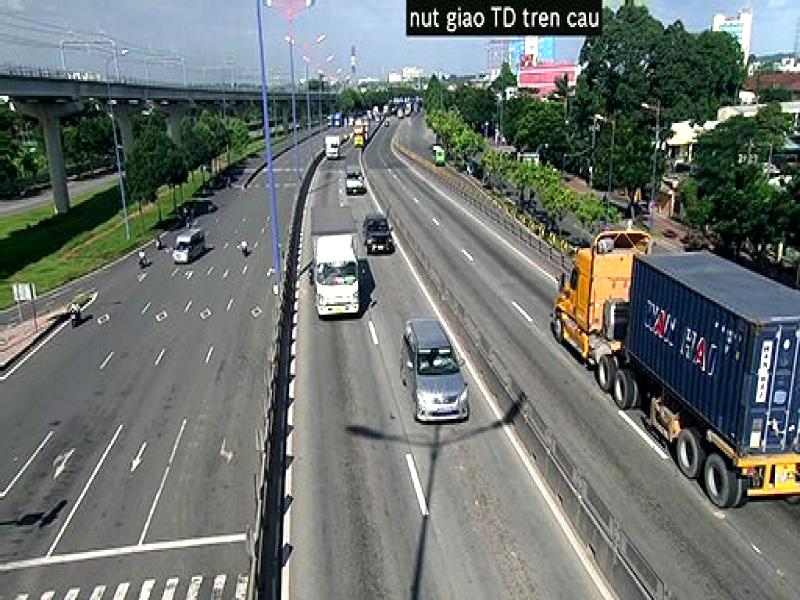truck: (546, 224, 800, 514)
